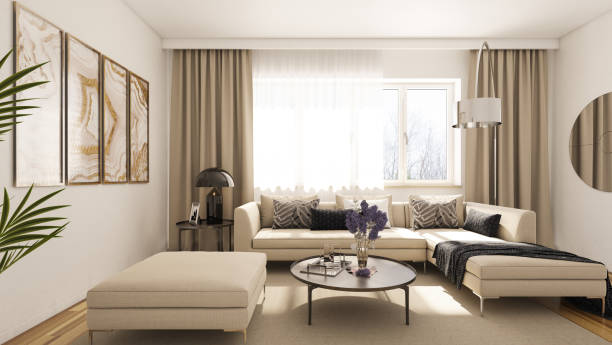floor lamp: (449, 38, 505, 204)
flower vase: (344, 196, 387, 269)
side table: (173, 219, 233, 252)
sofa: (233, 192, 608, 318)
table: (289, 252, 417, 327)
table lamp: (194, 167, 234, 223)
wall art: (13, 10, 65, 189), (64, 29, 100, 186), (102, 53, 128, 185), (128, 69, 150, 184)
